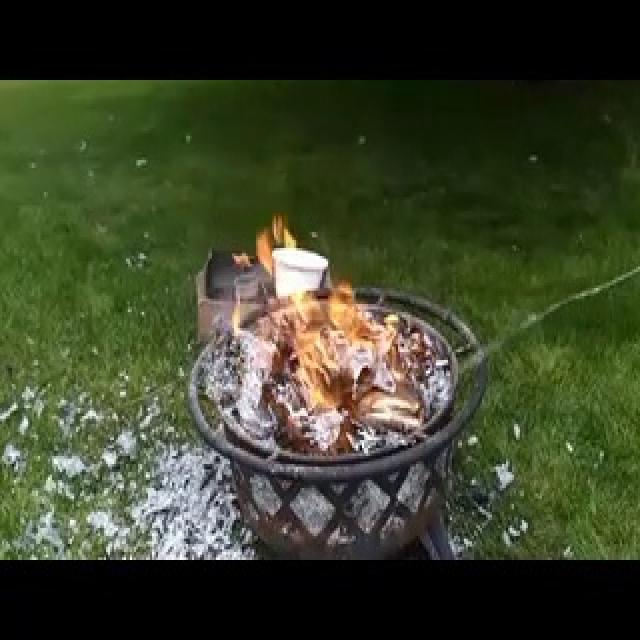fire: (201, 101, 427, 456)
